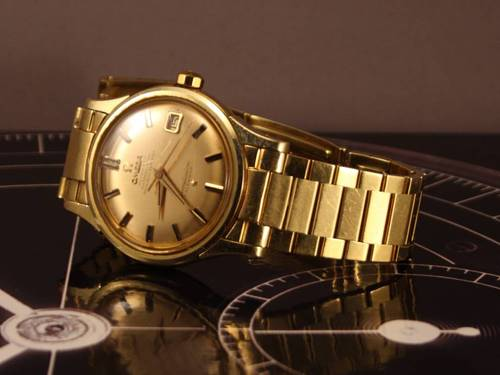clock: (97, 99, 229, 251)
